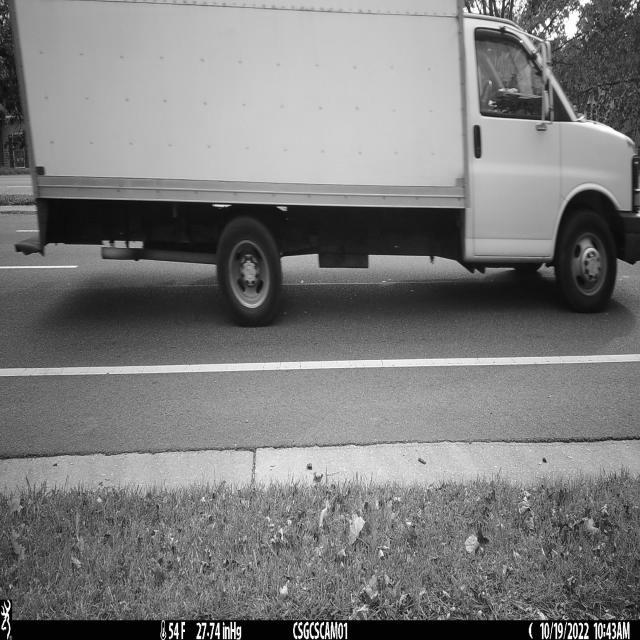Box Truck: (8, 0, 640, 327)
